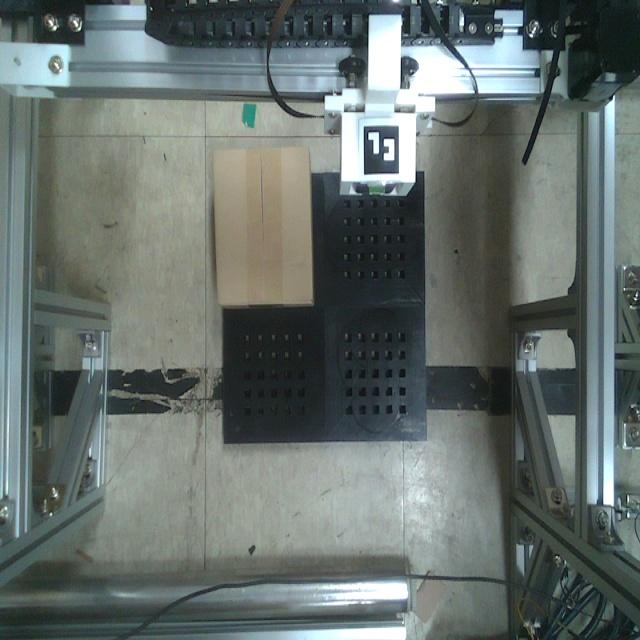box: (207, 140, 319, 310)
